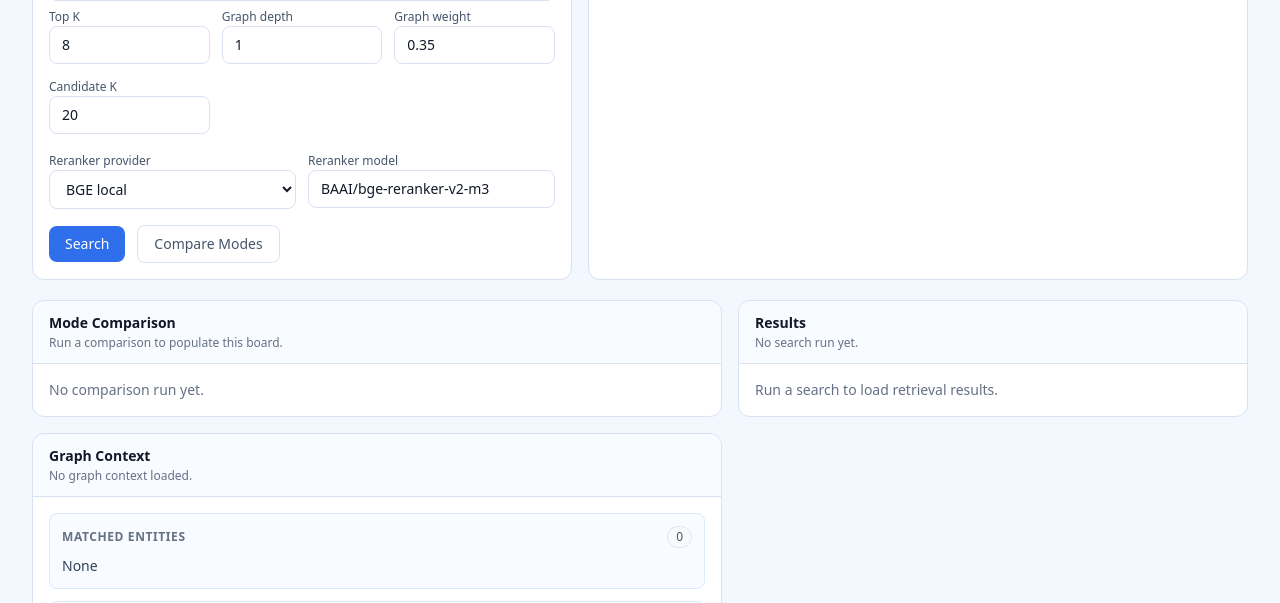
Test: RetrievalLab reranker controls › renders entity-level, relationship-level, suppression, and graph rank movement data
The image size is (1280, 603).
(page scrolled)
Click the button "Search" at [87, 244], box [49,226,125,262]
(page scrolled)
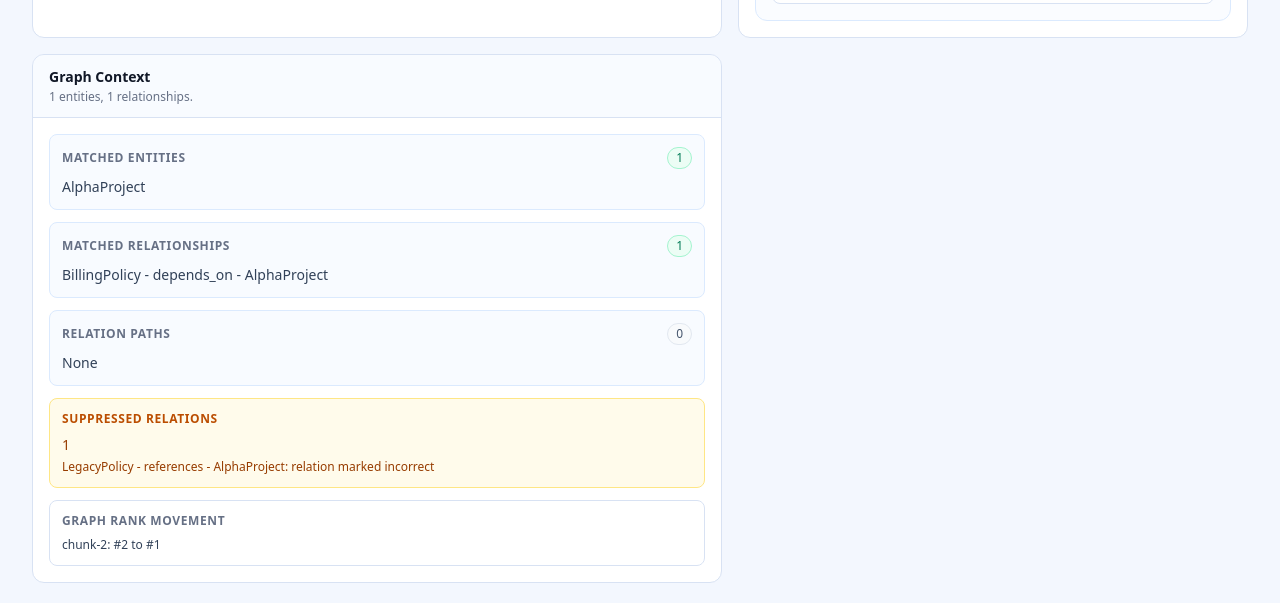
Now the text "BillingPolicy - depends_on - AlphaProject" is shown, box [62,264,328,284]
Now the text "LegacyPolicy - references - AlphaProject" is shown, box [62,458,434,474]
Now the text "chunk-2: #2 to #1" is shown, box [62,536,161,552]
